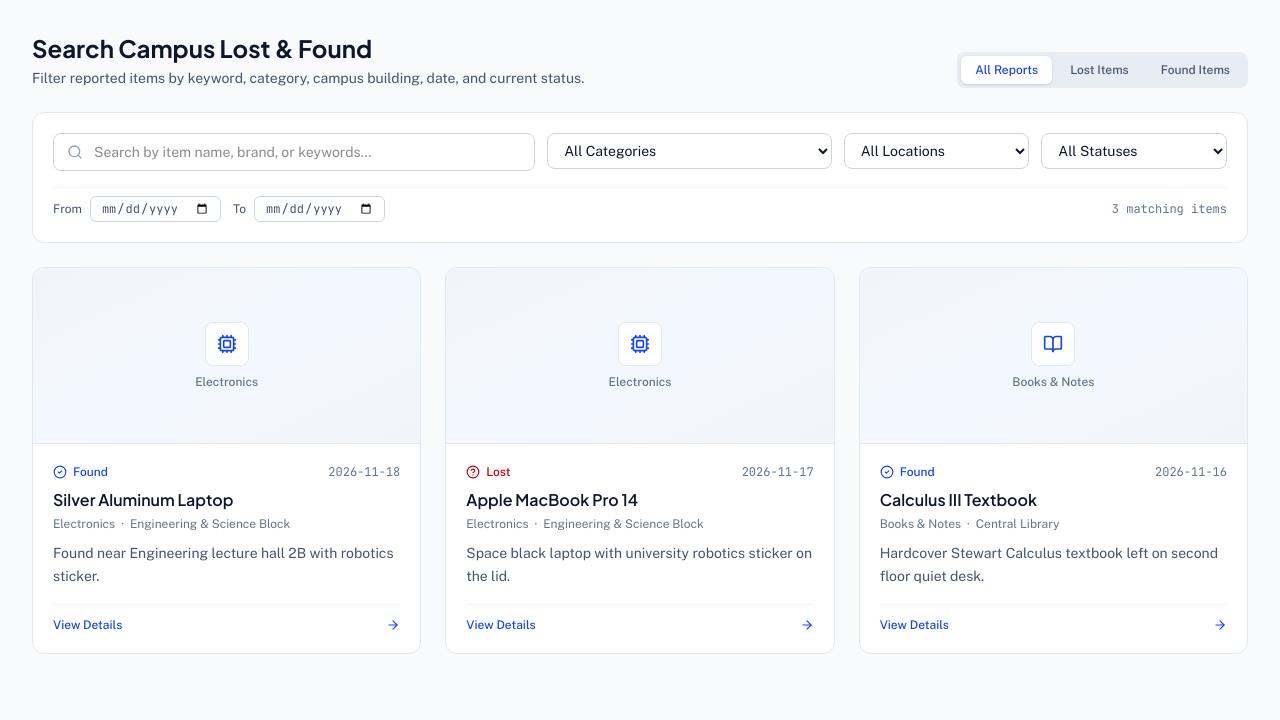
it: Module 2: Item Search and Matching › TC-M2-03: Filters items by category
Select "Books & Notes" in the dropdown named "Filter by category" at (689, 151), box x1=547 y1=133 x2=832 y2=169
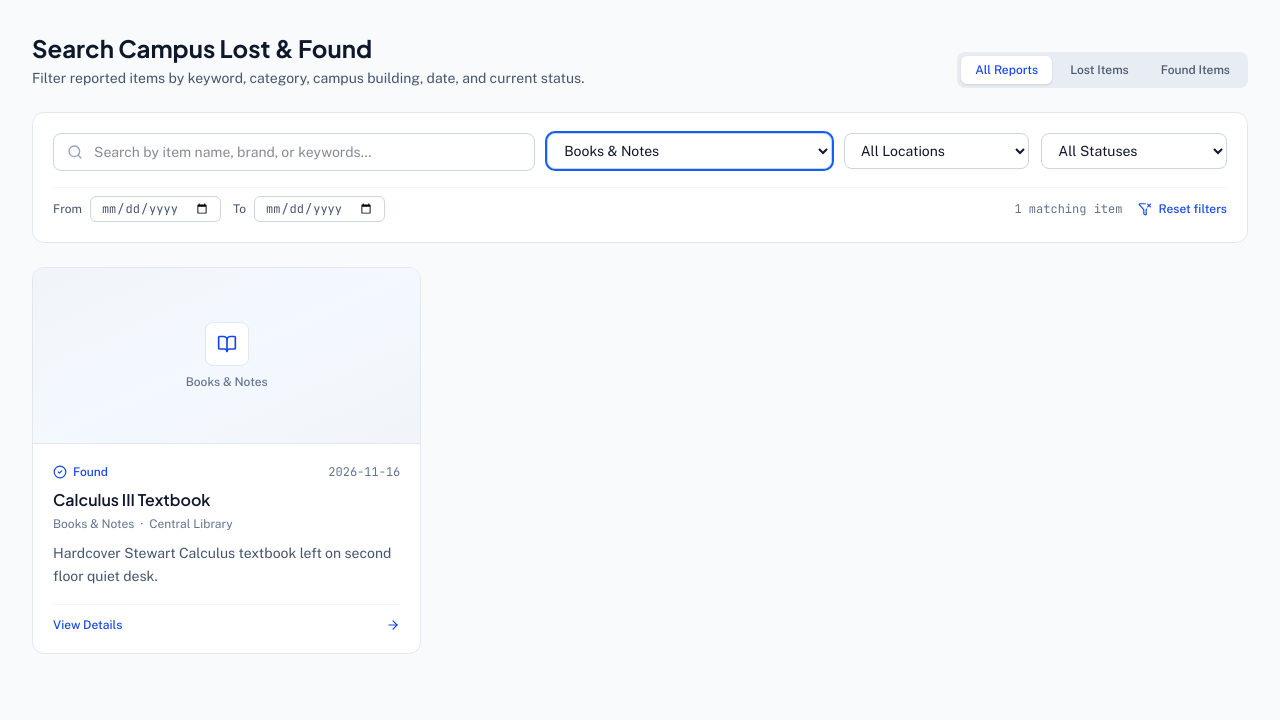
expect the heading "Calculus III Textbook" is shown: met, box x1=53 y1=489 x2=210 y2=510
expect the button "Apple MacBook Pro 14" is gone: met
